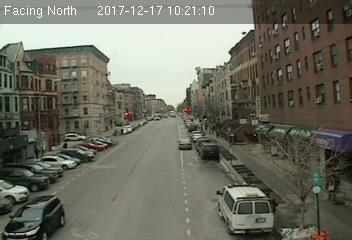car: (1, 195, 67, 240), (203, 144, 219, 159), (177, 138, 193, 151)
police: (213, 180, 277, 236)
